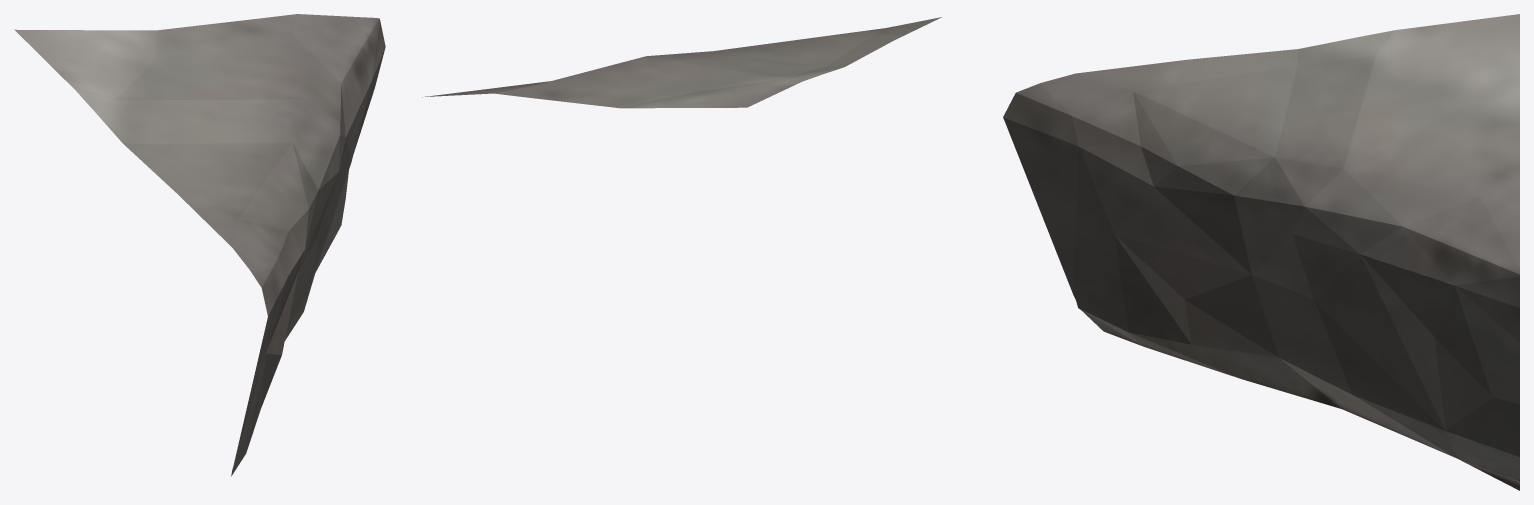
3 views of the same model, side by side, from view 1: azimuth 30°, elevation 25°; view 2: azimuth 150°, elevation 25°; view 3: azimuth 270°, elevation 25° (orthographic). The views are drawn at different scales.
Bounding box in the file's own units: 0.1632 × 0.1794 × 0.193.
1 material, 1 textured.
